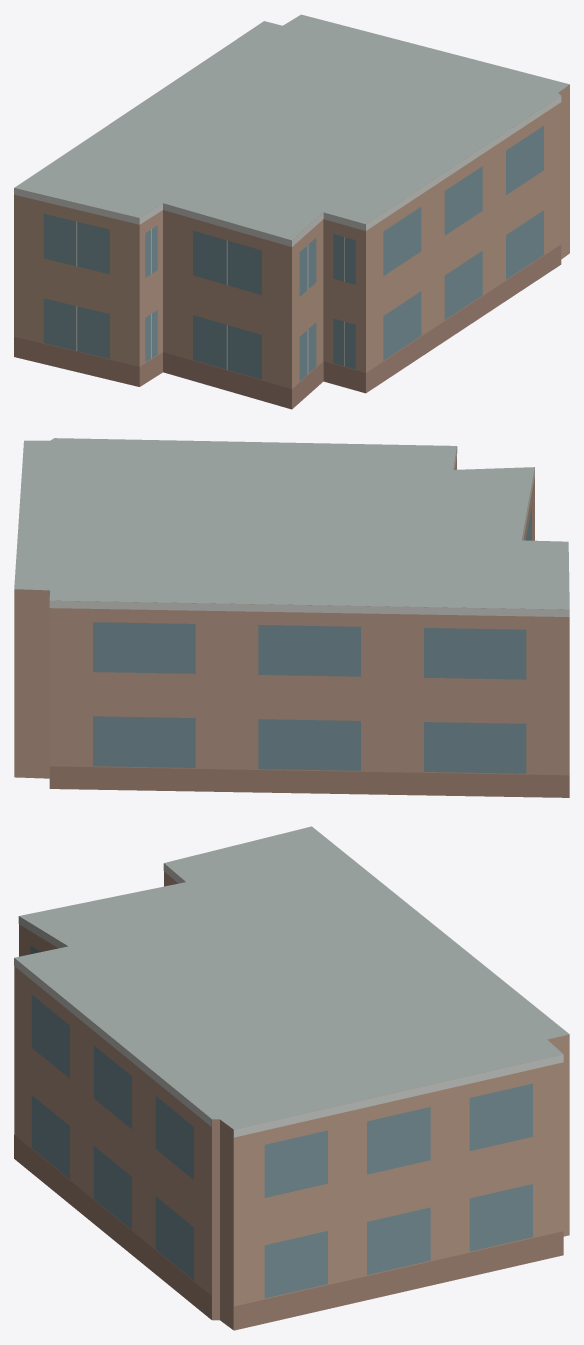
Rendered from survey-upis-32687551.glb.
3 renders of one model, top to bottom at view 1: azimuth 30°, elevation 25°; view 2: azimuth 150°, elevation 25°; view 3: azimuth 270°, elevation 25°, orthographic. The views are drawn at different scales.
Parts seen in each view (by area): view 1: survey-upis-32687551.tmp; view 2: survey-upis-32687551.tmp; view 3: survey-upis-32687551.tmp.
Part boxes in pixels (left/top/right/bottom): survey-upis-32687551.tmp: left=14, top=14, right=569, bottom=409; survey-upis-32687551.tmp: left=14, top=438, right=569, bottom=797; survey-upis-32687551.tmp: left=14, top=826, right=569, bottom=1330.
Bounding box in the file's own units: 19.76 × 6.1 × 15.3.
